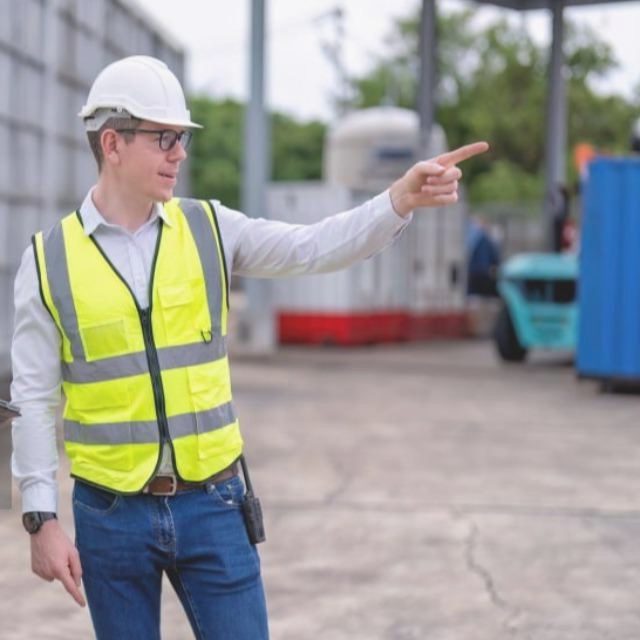Con_Casco: (80, 57, 203, 201)
Con_Chaleco: (36, 203, 232, 498)
